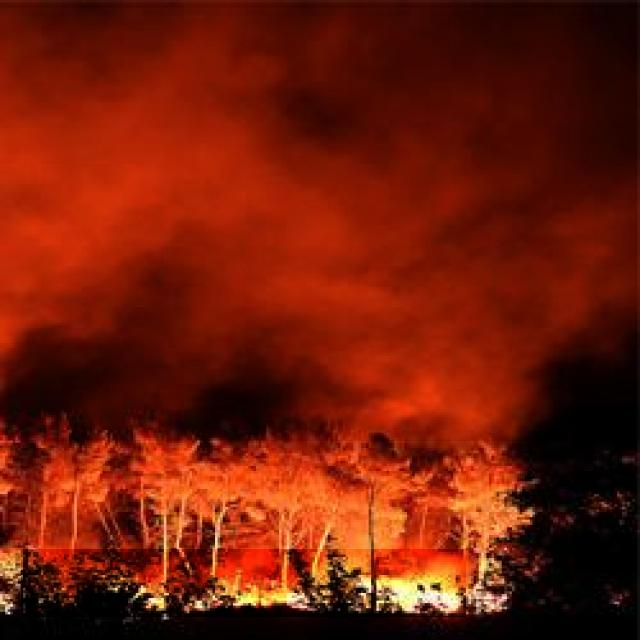Fire: (21, 550, 466, 618)
Smoke: (0, 0, 640, 441)
